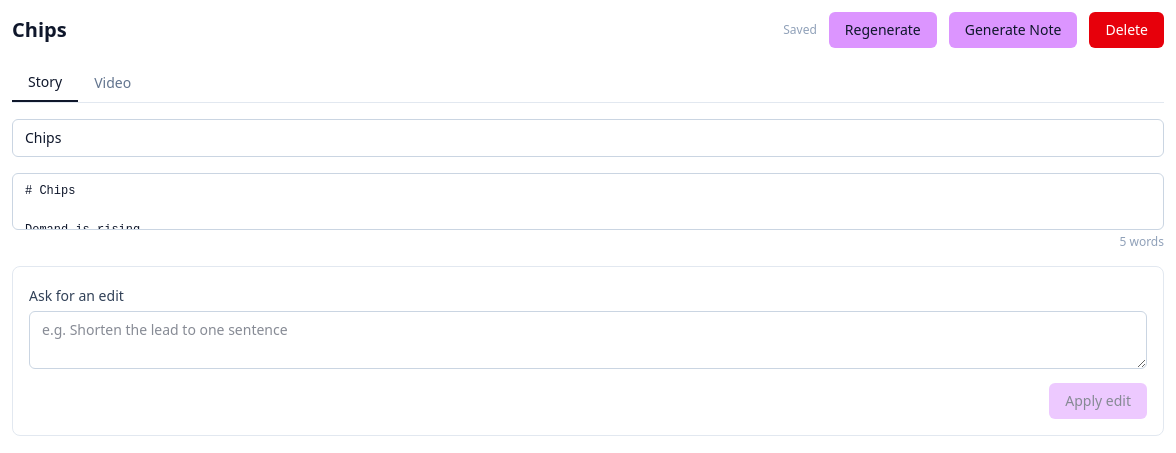
StoryEditor › applies a prompt edit and updates the local draft
This screenshot has width=1176, height=453.
Type "Shorten the lead" into the text box with placeholder "e.g. Shorten the lead to one sentence" at (588, 340), box [29,311,1147,369]
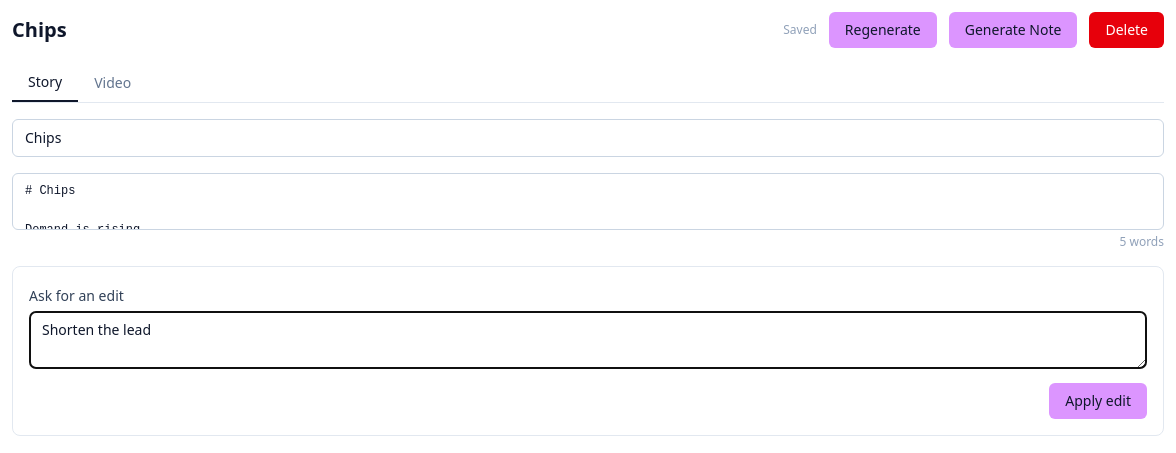
Click the button "Apply edit" at (1098, 401), box [1049,383,1147,419]
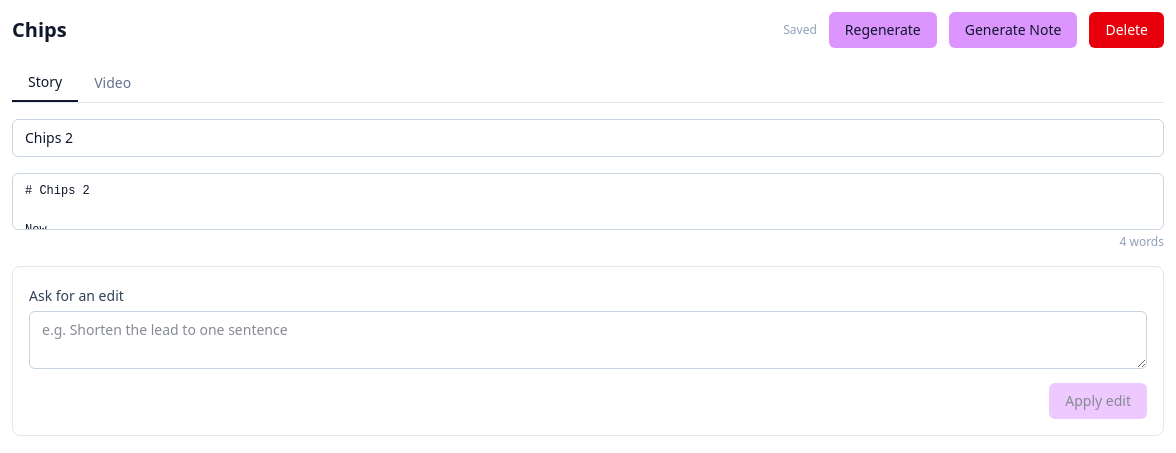
Expected: the 1st text box is shown, [12,173,1164,230]
Expected: the field showing "Chips 2" is shown, [12,119,1164,157]
Expected: the text box with placeholder "e.g. Shorten the lead to one sentence" is empty, [29,311,1147,369]
